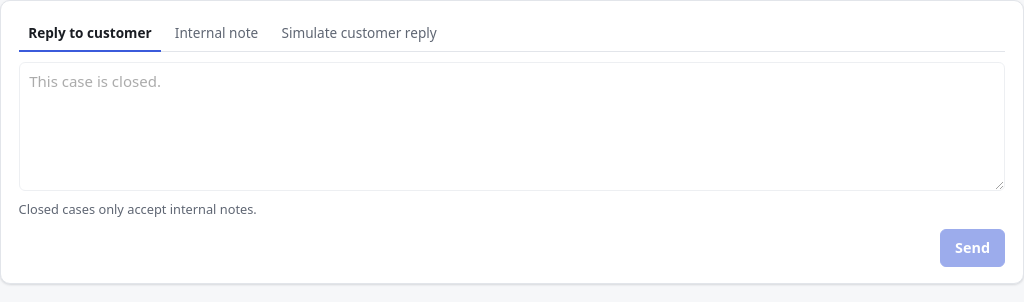
Test: ReplyComposer › only allows internal notes on a closed case
Expected: the text box named "Message" is disabled, [19,62,1005,191]
Expected: the text "Closed cases only accept internal notes." is shown, [19,200,257,218]
Click the tab "Internal note". click: (217, 35)
box: [165,17,268,52]
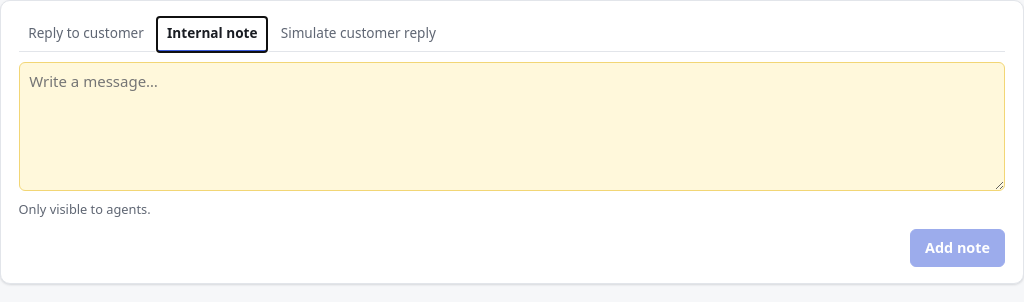
Now the text box labelled "message" is enabled, box [19,62,1005,191]
